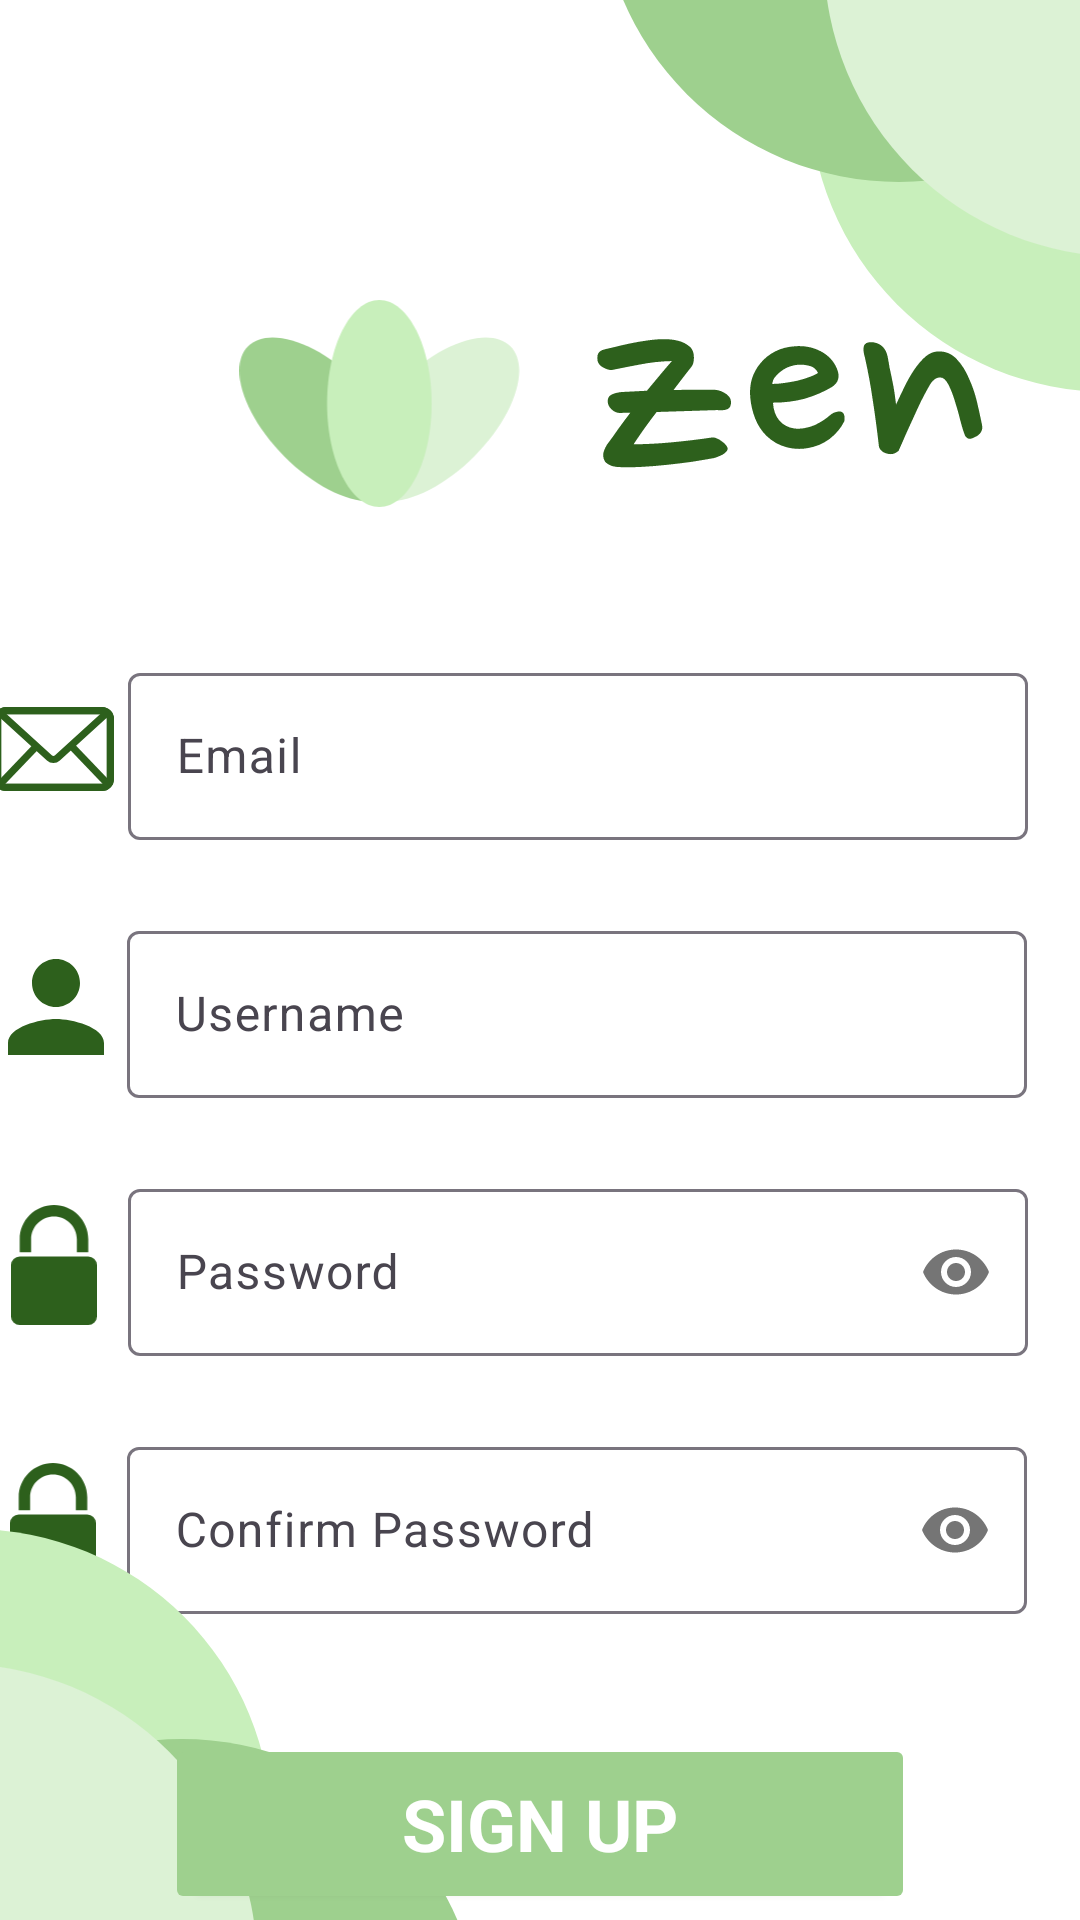

Icons on this 1080w x 1920h Android screen, each with the point to tap as (x,y):
email: (57,749)
